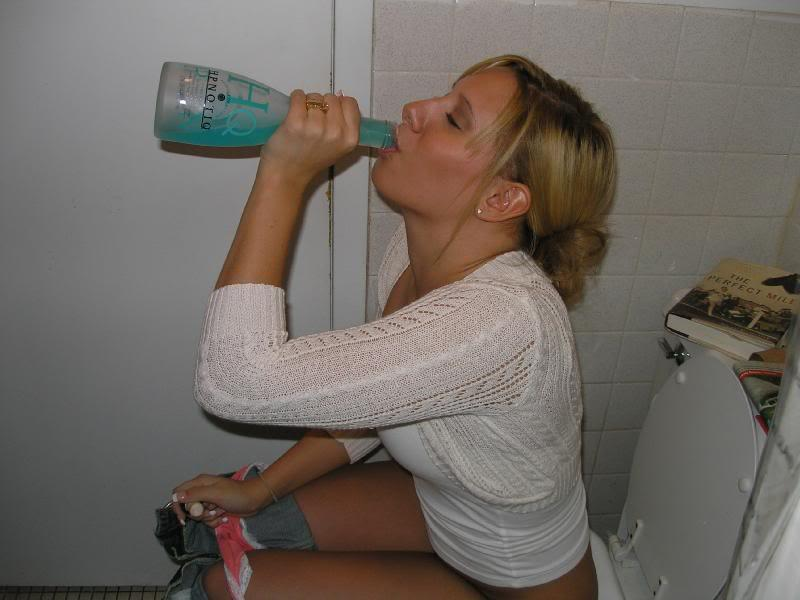person: (165, 52, 621, 600)
